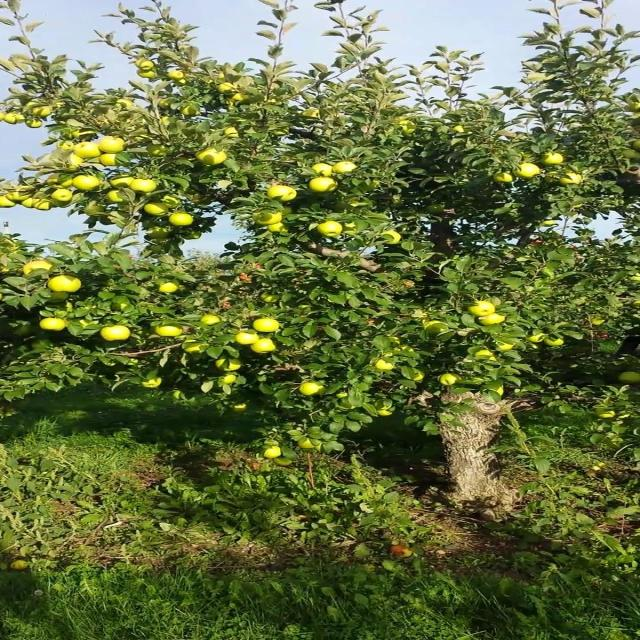apple: (49, 276, 84, 292), (198, 148, 228, 166), (99, 136, 128, 152), (269, 188, 299, 203), (106, 328, 133, 342), (77, 144, 100, 160), (77, 176, 100, 192), (312, 180, 340, 193), (468, 304, 498, 316), (518, 164, 540, 180), (63, 156, 85, 172), (234, 332, 261, 345), (255, 212, 284, 224), (319, 224, 341, 239), (241, 328, 261, 344), (255, 320, 281, 332), (220, 360, 244, 372), (42, 320, 66, 332), (170, 216, 194, 228), (561, 172, 583, 185), (255, 340, 277, 353), (148, 204, 171, 216), (141, 376, 164, 388), (148, 228, 171, 240), (84, 204, 107, 216), (13, 324, 34, 337), (305, 384, 327, 396), (113, 176, 135, 188), (134, 180, 156, 192), (49, 176, 71, 188), (383, 232, 405, 244), (312, 164, 334, 176), (99, 156, 121, 168), (156, 328, 185, 337), (241, 332, 261, 345), (269, 224, 292, 235), (618, 372, 639, 384), (6, 112, 27, 124), (148, 144, 169, 156), (397, 124, 418, 136), (262, 448, 284, 459), (483, 316, 505, 327), (426, 324, 448, 335), (49, 292, 71, 303), (333, 164, 357, 174), (547, 336, 567, 348), (35, 200, 55, 212), (184, 344, 208, 354), (376, 360, 396, 372), (163, 196, 183, 208), (540, 172, 560, 184), (362, 180, 382, 192), (497, 172, 516, 184), (28, 108, 53, 117), (106, 192, 124, 204), (6, 192, 30, 201), (70, 132, 96, 140), (28, 264, 53, 272), (440, 376, 462, 385), (269, 128, 292, 136), (547, 156, 567, 165), (13, 560, 28, 572), (276, 456, 292, 467), (596, 412, 617, 420), (404, 124, 418, 136), (70, 132, 91, 140), (227, 128, 242, 139), (220, 84, 235, 95), (497, 344, 517, 352), (184, 232, 204, 240), (618, 152, 638, 160), (547, 172, 560, 184), (476, 352, 498, 359), (163, 284, 180, 293), (525, 336, 544, 344), (56, 192, 73, 200), (205, 316, 220, 325), (141, 60, 156, 69), (120, 100, 135, 109), (305, 440, 320, 449), (77, 320, 96, 327), (236, 92, 249, 102), (20, 200, 36, 208), (348, 200, 364, 208), (141, 72, 156, 80), (262, 296, 277, 304), (305, 112, 320, 120), (170, 72, 185, 80), (184, 108, 199, 116), (28, 120, 43, 128), (56, 200, 71, 208), (234, 404, 249, 412), (333, 392, 348, 400), (412, 372, 427, 380), (1, 200, 16, 208), (348, 224, 359, 234), (113, 304, 128, 311), (63, 144, 76, 152), (163, 100, 176, 108), (6, 198, 16, 208), (177, 76, 187, 84), (589, 320, 604, 325), (227, 376, 236, 384), (397, 120, 411, 125), (632, 140, 639, 150), (376, 412, 391, 416), (454, 128, 466, 133), (497, 388, 505, 395), (177, 80, 187, 85)
